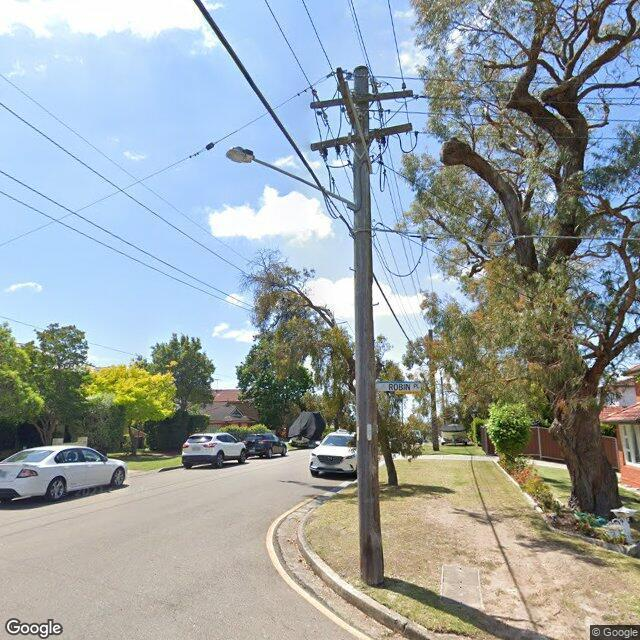crossarm: (310, 123, 413, 152), (309, 89, 414, 109), (334, 66, 356, 132)
streetlight: (226, 146, 356, 212)
timber-pole: (352, 65, 384, 586), (428, 329, 440, 451)
